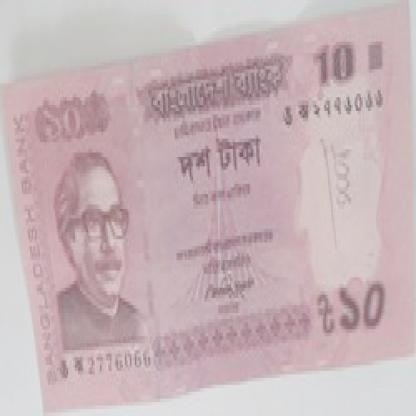Ten Taka: (333, 274, 401, 340), (308, 24, 363, 94), (38, 97, 93, 142)
